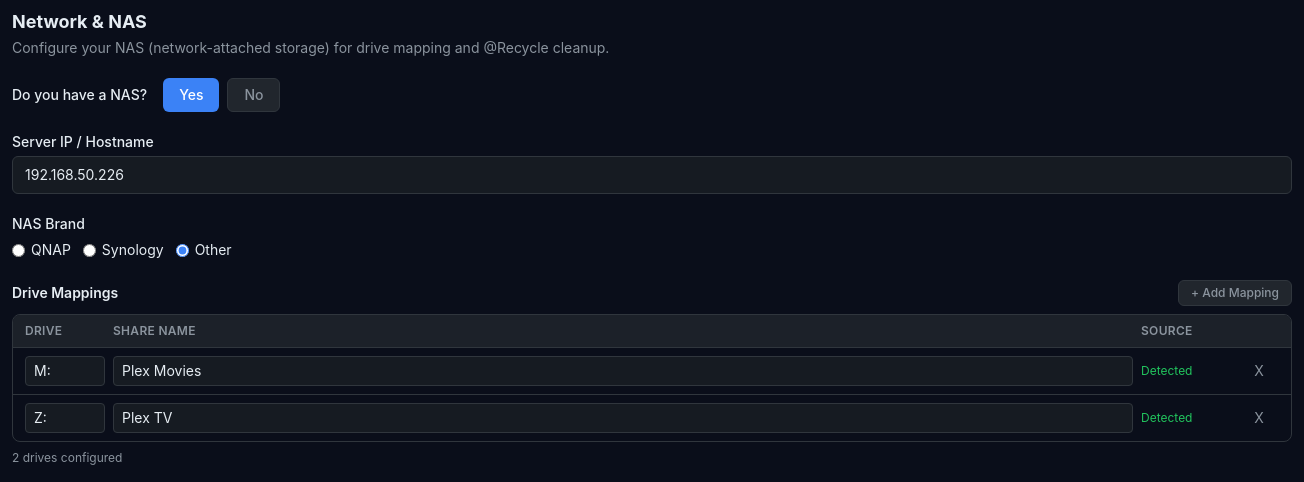
Scenario: <W3NetworkNas> › toggling No shows hidden-features message
Expected: the text "NAS Brand" is shown, x1=12 y1=215 x2=85 y2=232
// Click "No" toggle
Click the button "No" at x=254, y=95, box x1=227 y1=78 x2=280 y2=112
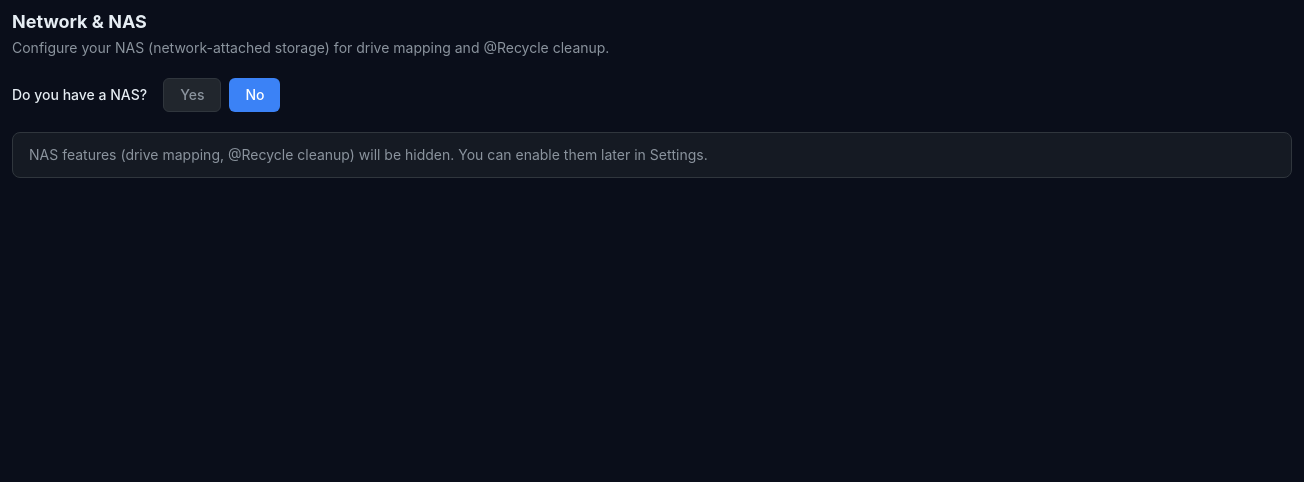
Now the text "NAS Brand" is gone
